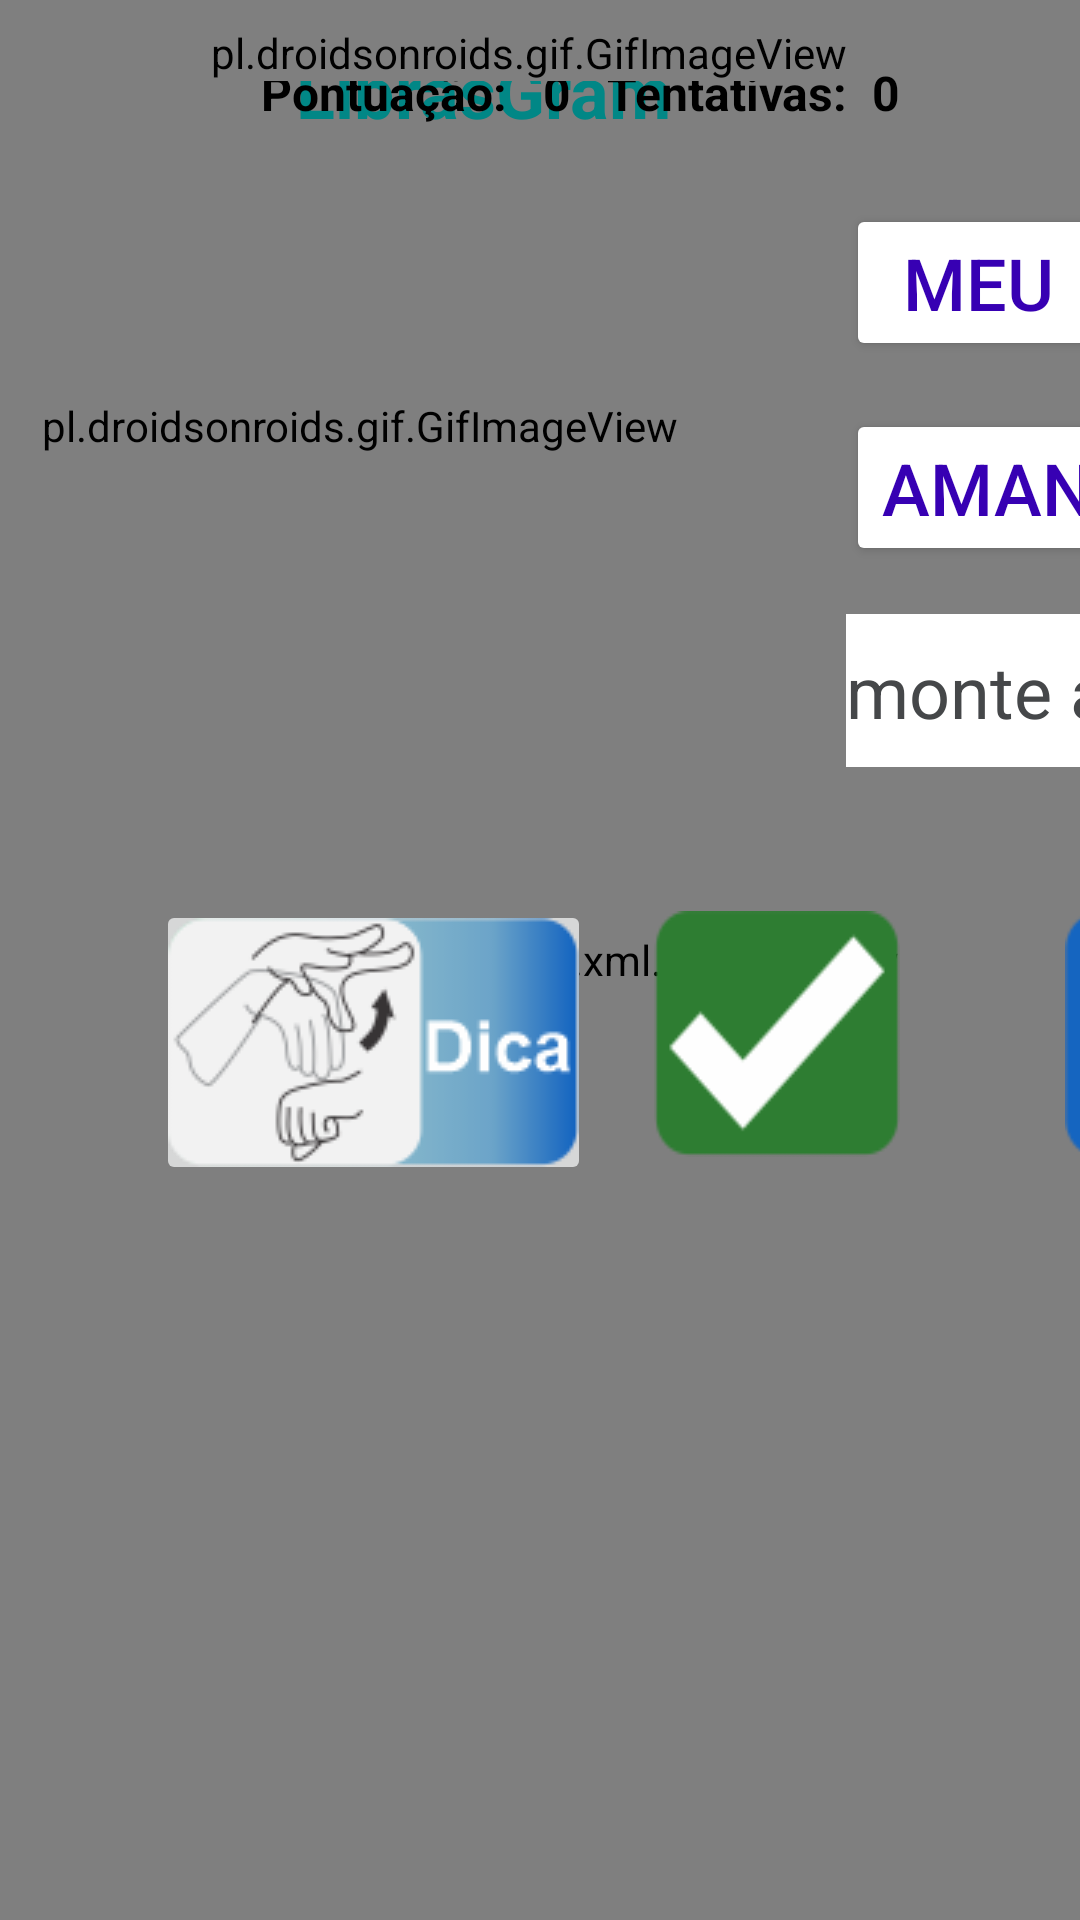

Where to tap for icons on this 1080px x 1920px app screen, as (x,y):
correcao: (776,1033)
